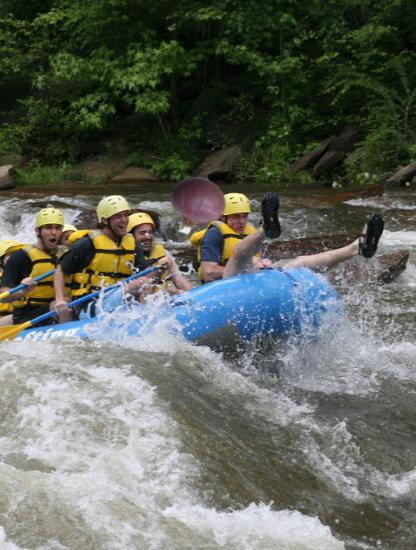Onion: (164, 170, 231, 237)
